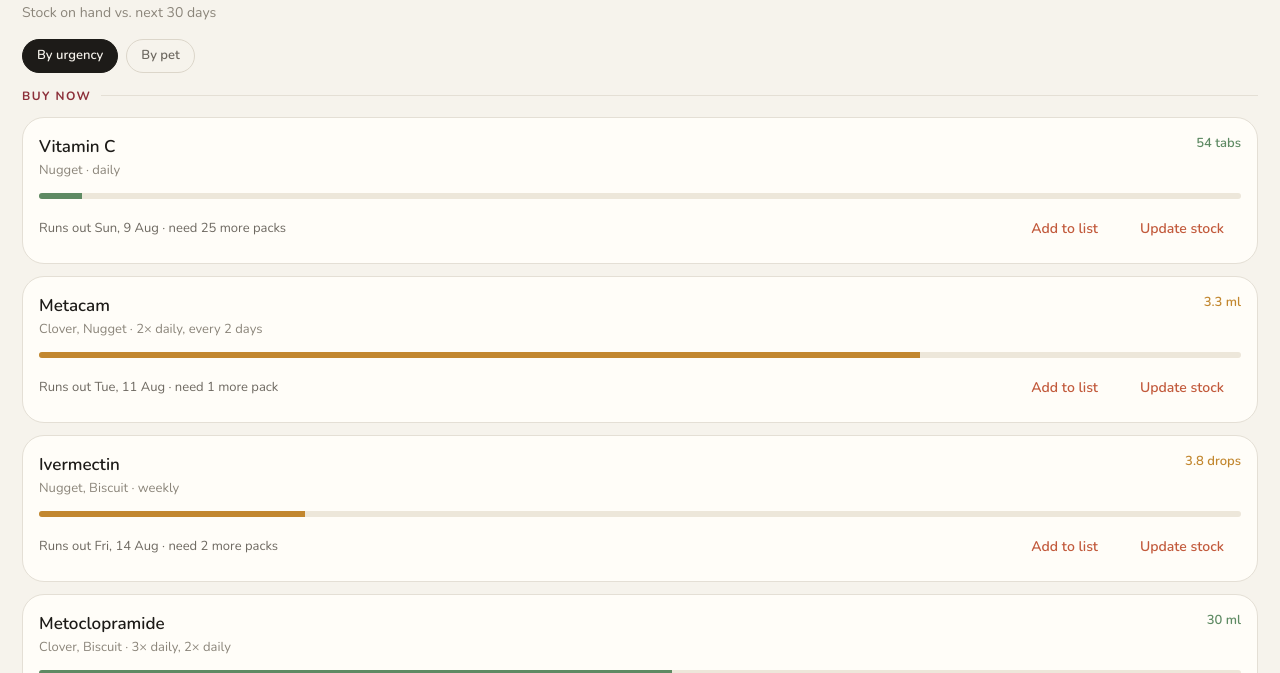
Test case: SuppliesPage › opening the shopping list shows the medication name, quantity needed and pet names
This screenshot has width=1280, height=673.
Expected: the text "Buy now" is shown, [22,87,91,105]
Click the button with aria-label "Add Metacam to list": (1065, 388) [1014,370,1115,406]
(page scrolled)
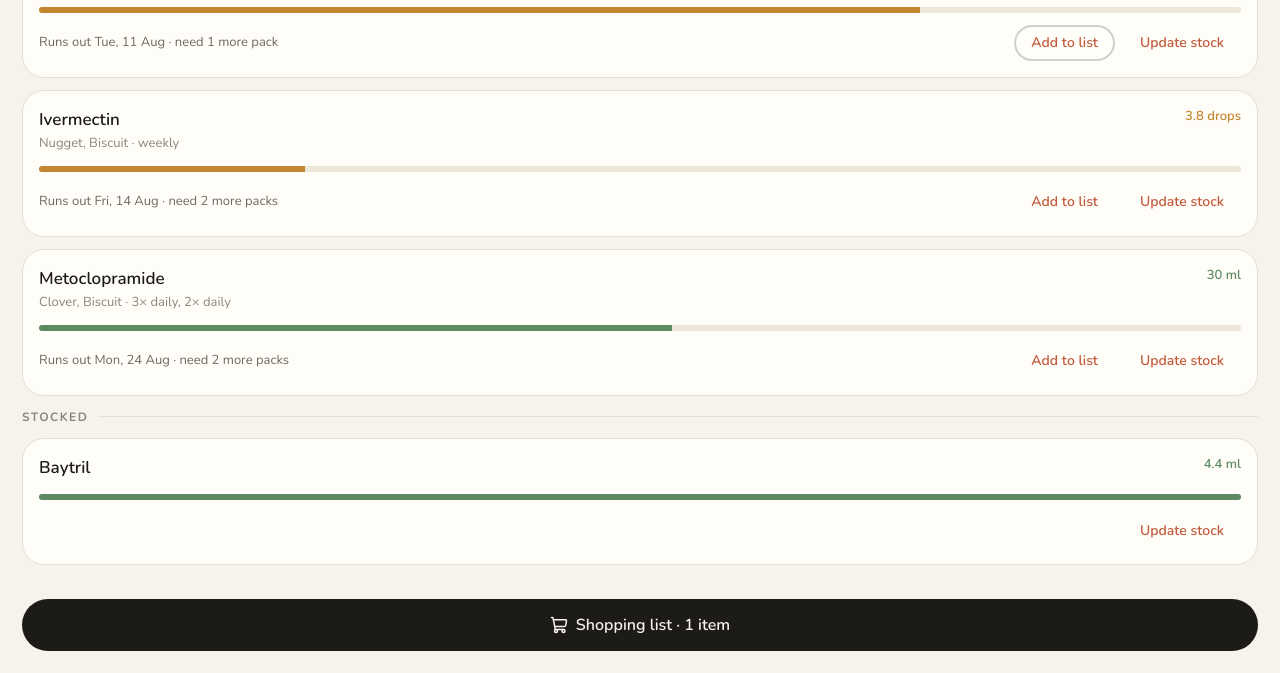
Click the button "Shopping list · 1 item": (640, 625) [22,599,1258,651]
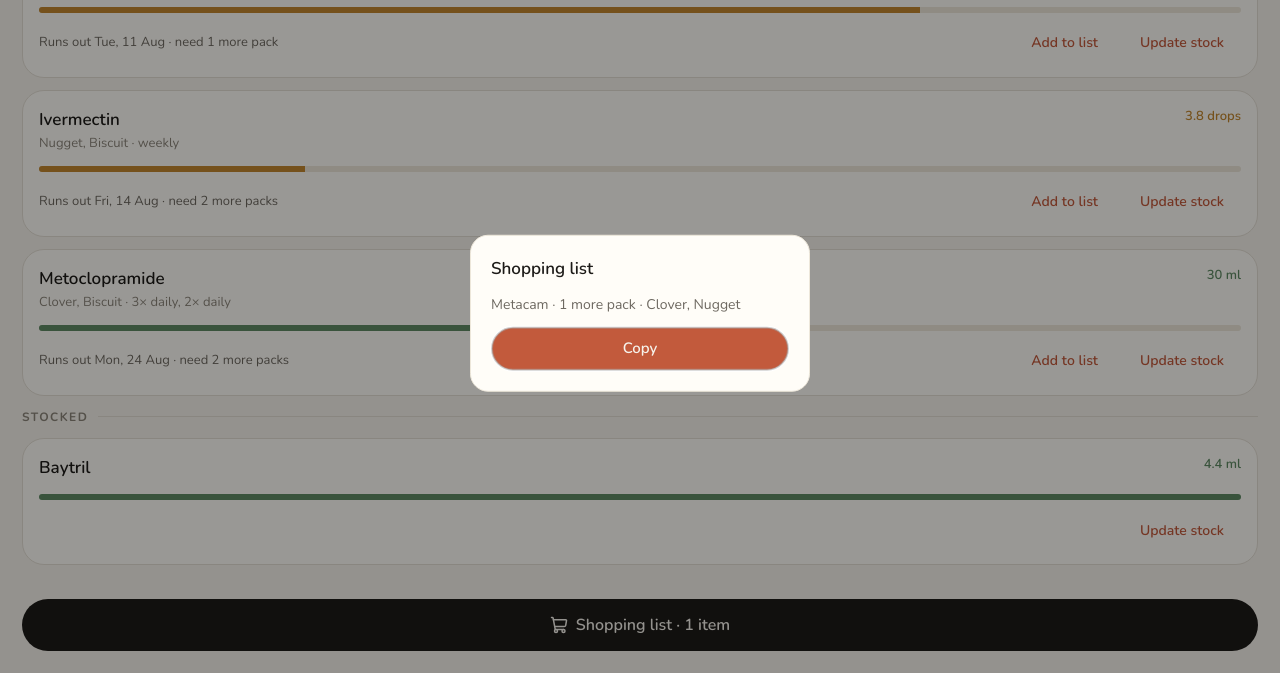
Now the heading "Shopping list" is shown, box [491,257,593,280]
Now the text "Metacam · 1 more pack · Clover, Nugget" is shown, box [491,294,740,313]
